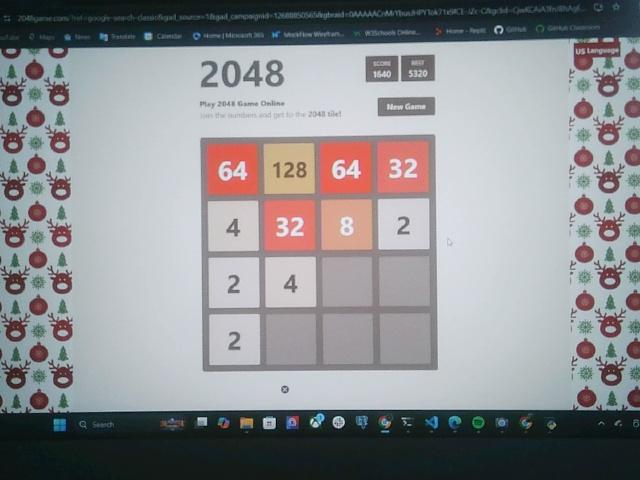best_score_box: (402, 55, 434, 81)
button: (377, 97, 435, 115)
score_box: (365, 56, 399, 83)
